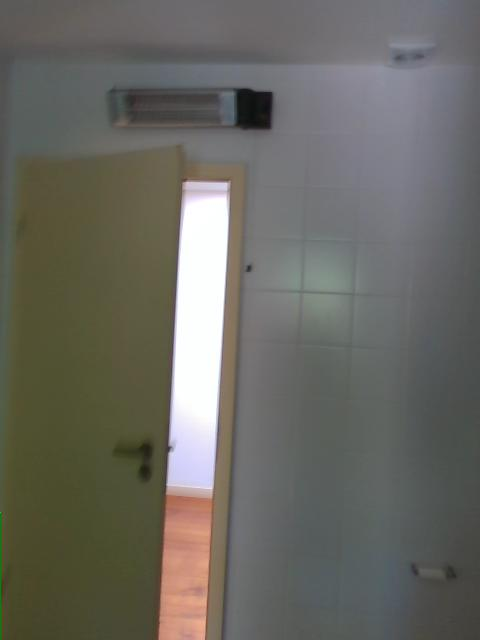semi_door: (1, 139, 250, 639)
